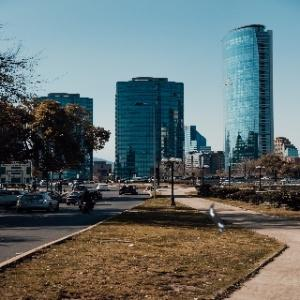drone: (167, 170, 270, 273)
